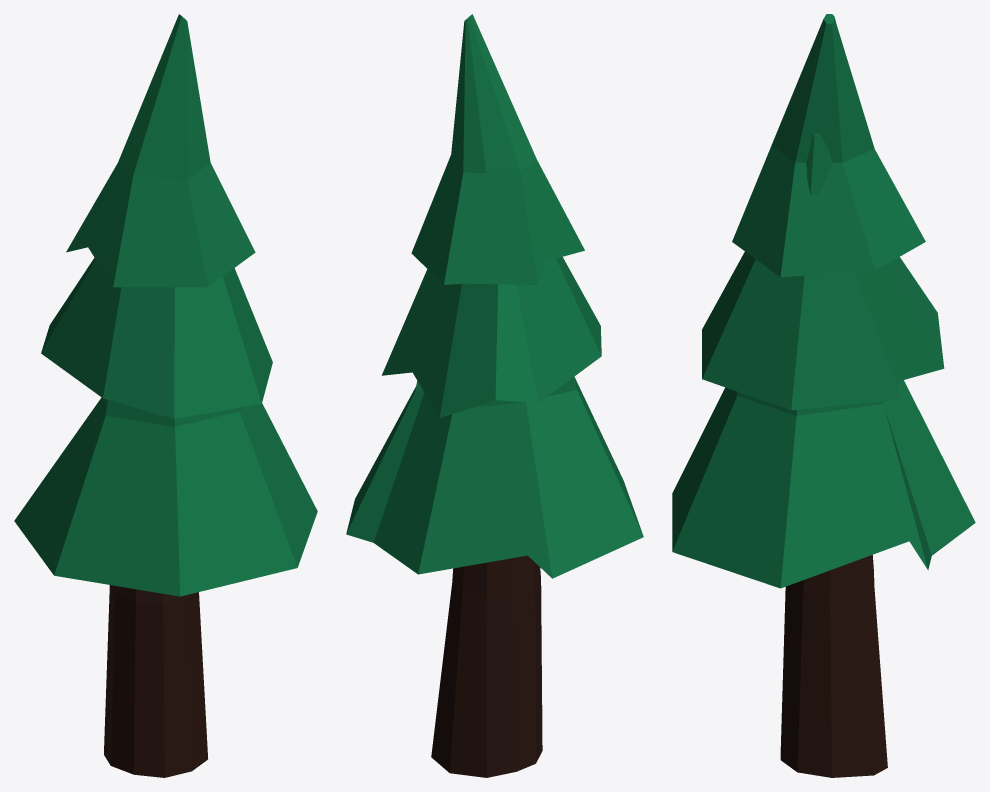
File: Tree1.fbx
3 views of the same model, side by side, from view 1: azimuth 30°, elevation 25°; view 2: azimuth 150°, elevation 25°; view 3: azimuth 270°, elevation 25° (orthographic). The views are drawn at different scales.
Visible parts, largest first — view 1: Cylinder.001; view 2: Cylinder.001; view 3: Cylinder.001.
Boxes of the visible parts, x1,y1,x2,y2 form: Cylinder.001: (14, 14, 317, 777); Cylinder.001: (346, 14, 643, 777); Cylinder.001: (672, 14, 975, 777).
Bounding box in the file's own units: 218 × 585 × 212.
